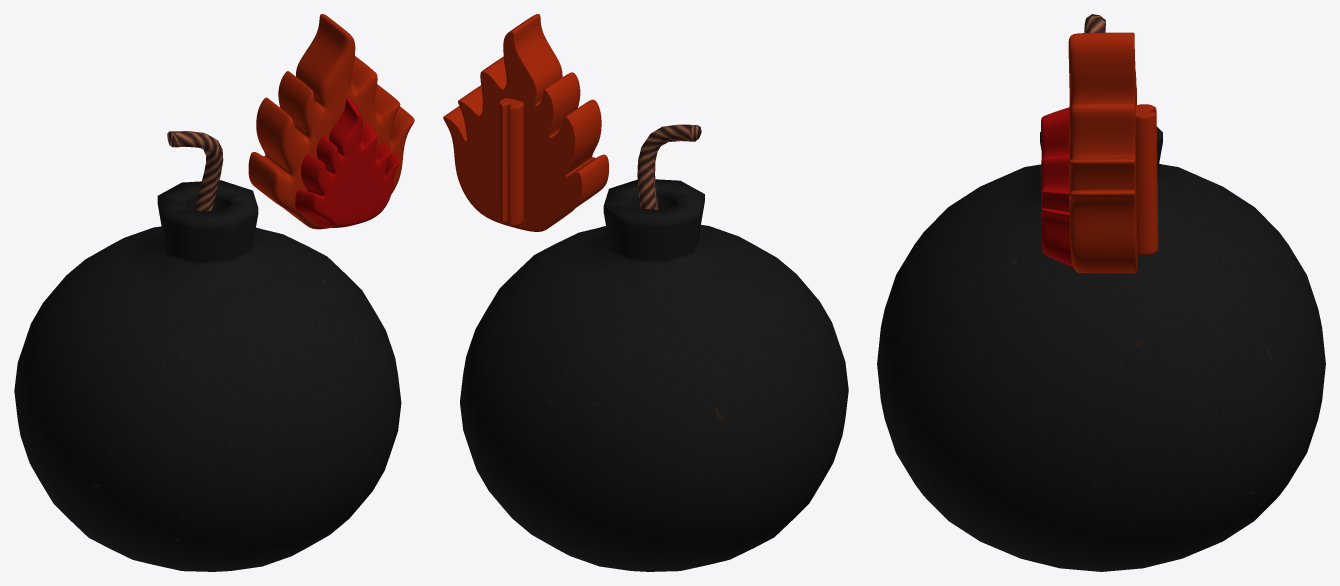
Rendered from bomb_power.obj.
3 renders of one model, left to right at view 1: azimuth 30°, elevation 25°; view 2: azimuth 150°, elevation 25°; view 3: azimuth 270°, elevation 25°, orthographic. The views are drawn at different scales.
Visible parts, largest first — view 1: bomb.001, 21330_Flame_v1, 21330_Flame_v1.001; view 2: bomb.001, 21330_Flame_v1; view 3: bomb.001, 21330_Flame_v1, 21330_Flame_v1.001.
Part boxes in pixels (x1,y1,x2,y2): bomb.001: (14,131,401,571); 21330_Flame_v1: (248,14,414,229); 21330_Flame_v1.001: (295,97,399,227); bomb.001: (460,124,848,571); 21330_Flame_v1: (443,14,608,231); bomb.001: (877,14,1325,571); 21330_Flame_v1: (1068,32,1158,273); 21330_Flame_v1.001: (1041,107,1072,266).
Size of the model in its own units: 4.39 by 5.76 by 4.
Materials: 4 (2 with a texture image).
